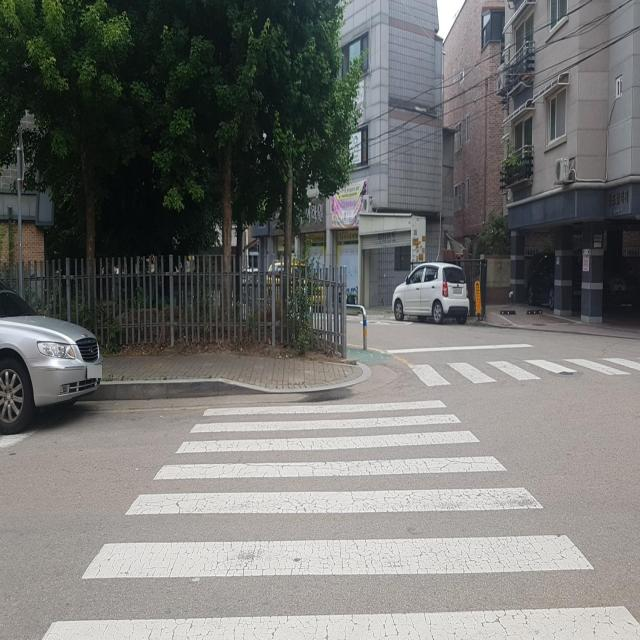횡단보도: (40, 396, 640, 639), (396, 346, 639, 395)
